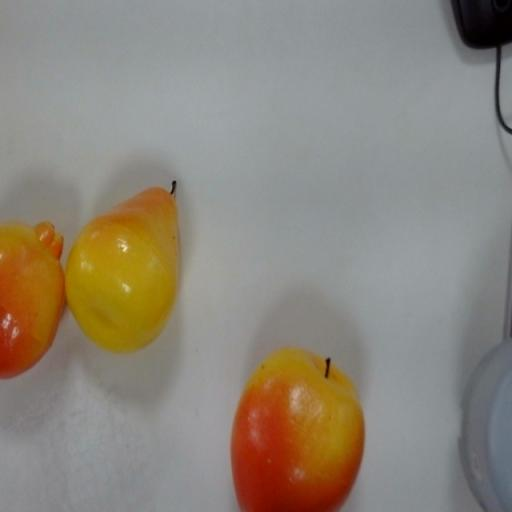Ripe: (228, 339, 370, 512), (65, 178, 187, 359), (1, 212, 71, 385)
